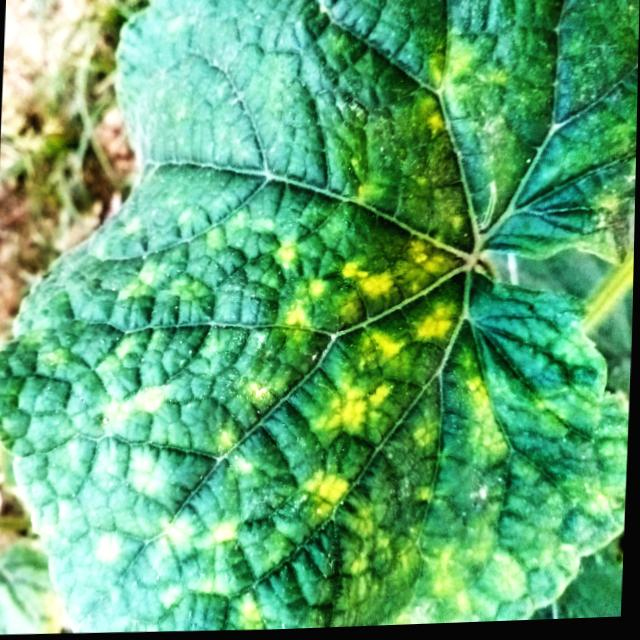Downy-Mildew: (0, 0, 640, 633)
